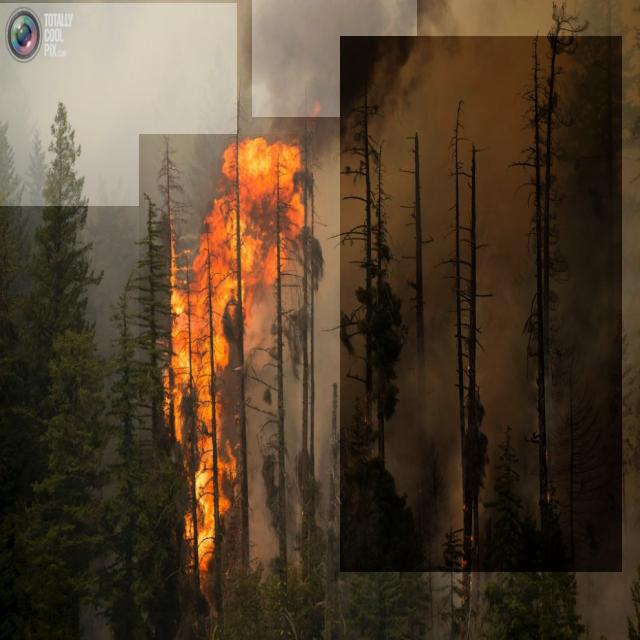Fire: (140, 134, 298, 612)
Smoke: (340, 36, 622, 572), (0, 3, 237, 206), (252, 0, 417, 117)
